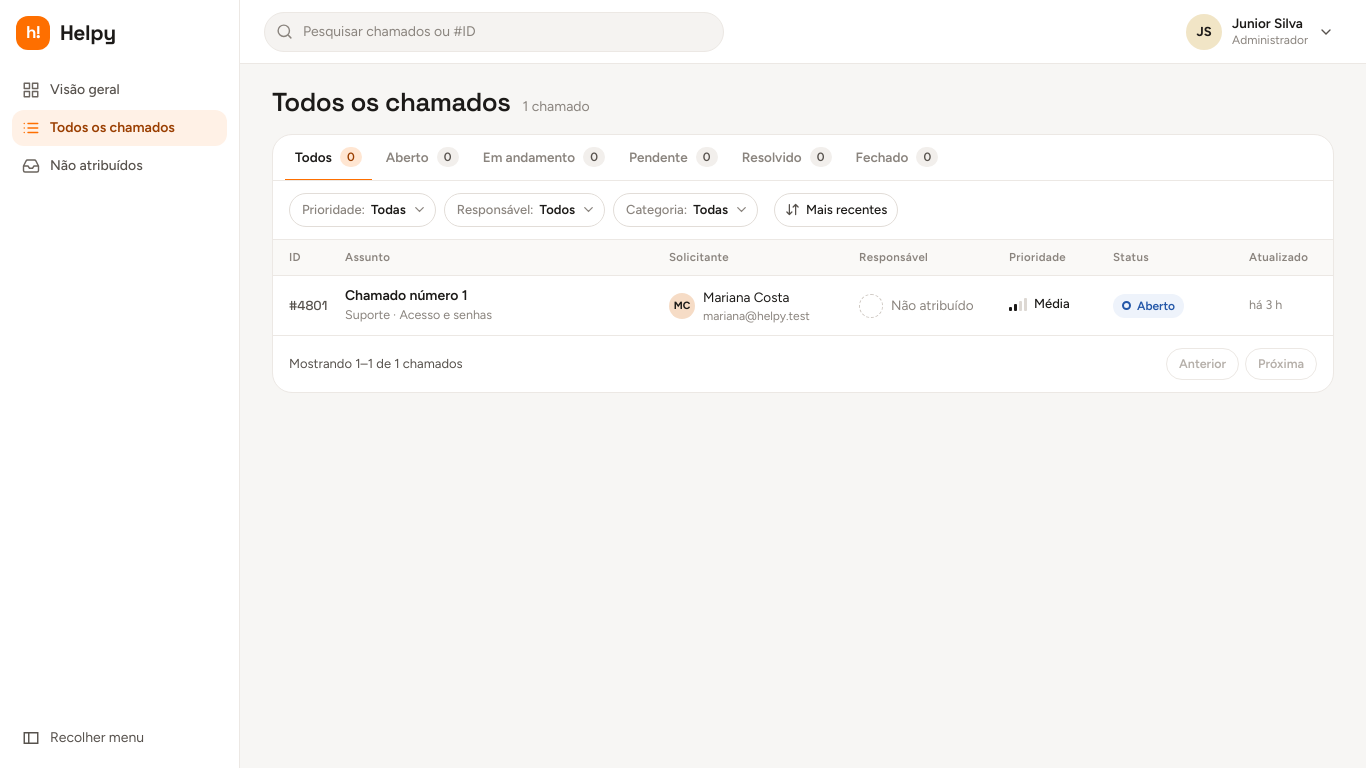
ticket filters › lists the categories from the API and writes the chosen one
The image size is (1366, 768).
Click the button "Categoria: Todas": click(685, 210) top-left (613, 193), bottom-right (758, 227)
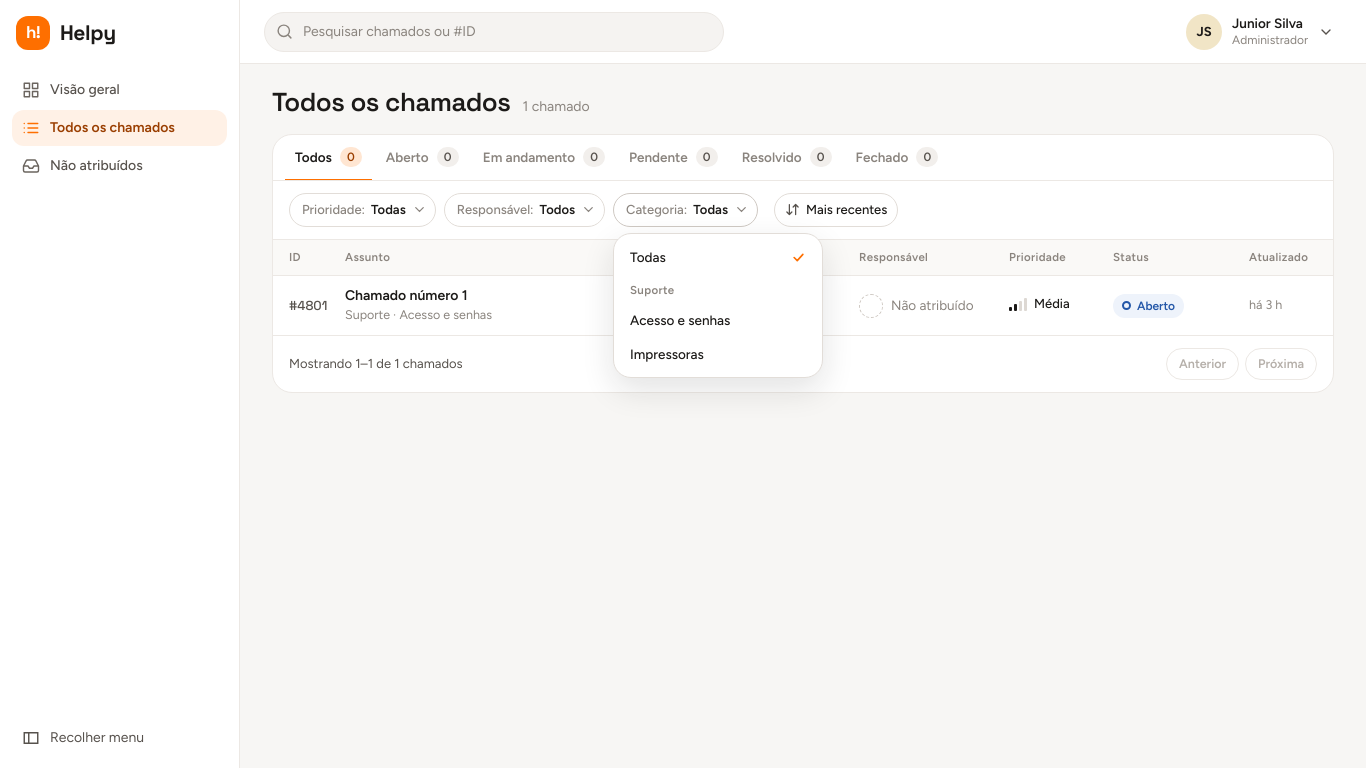
Click the menu item "Impressoras": click(667, 354) top-left (630, 346), bottom-right (704, 362)
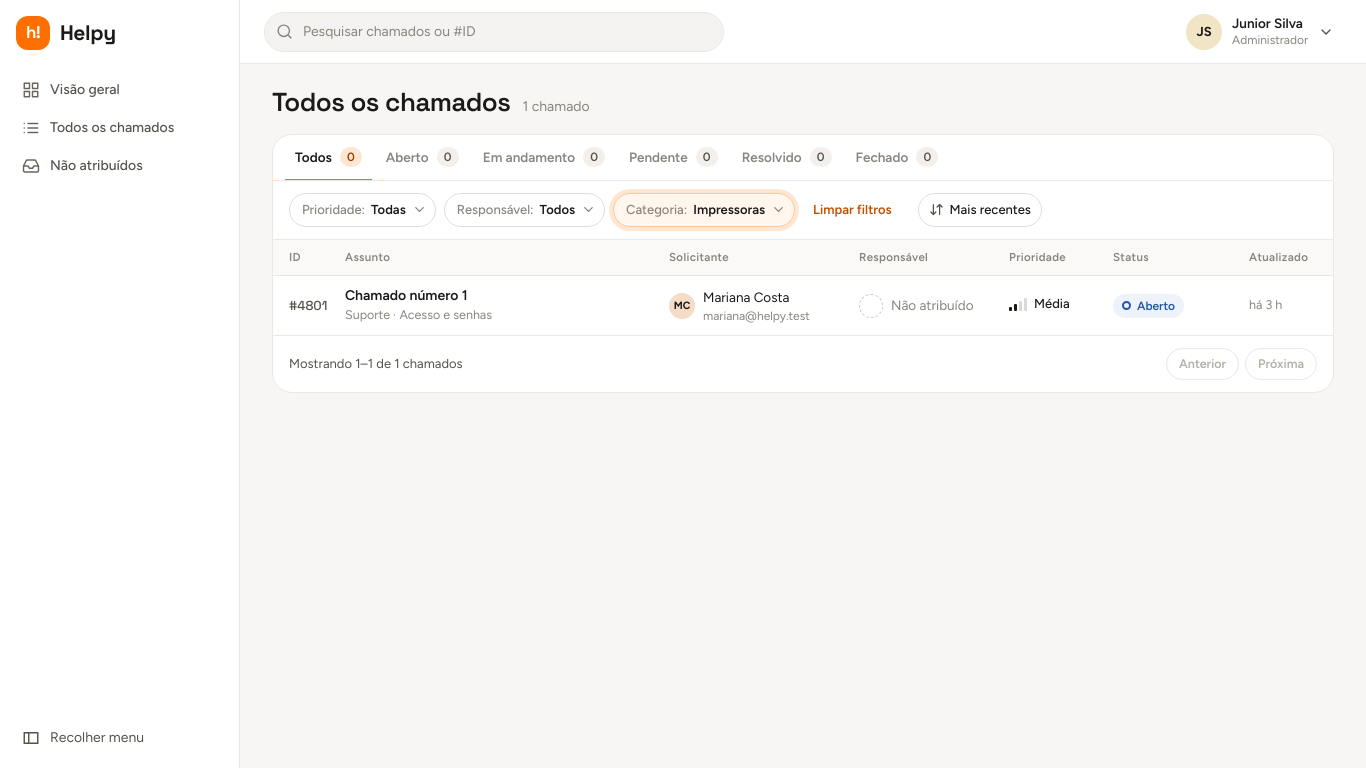
Now the button "Categoria: Impressoras" is shown, box top-left (613, 193), bottom-right (795, 227)
